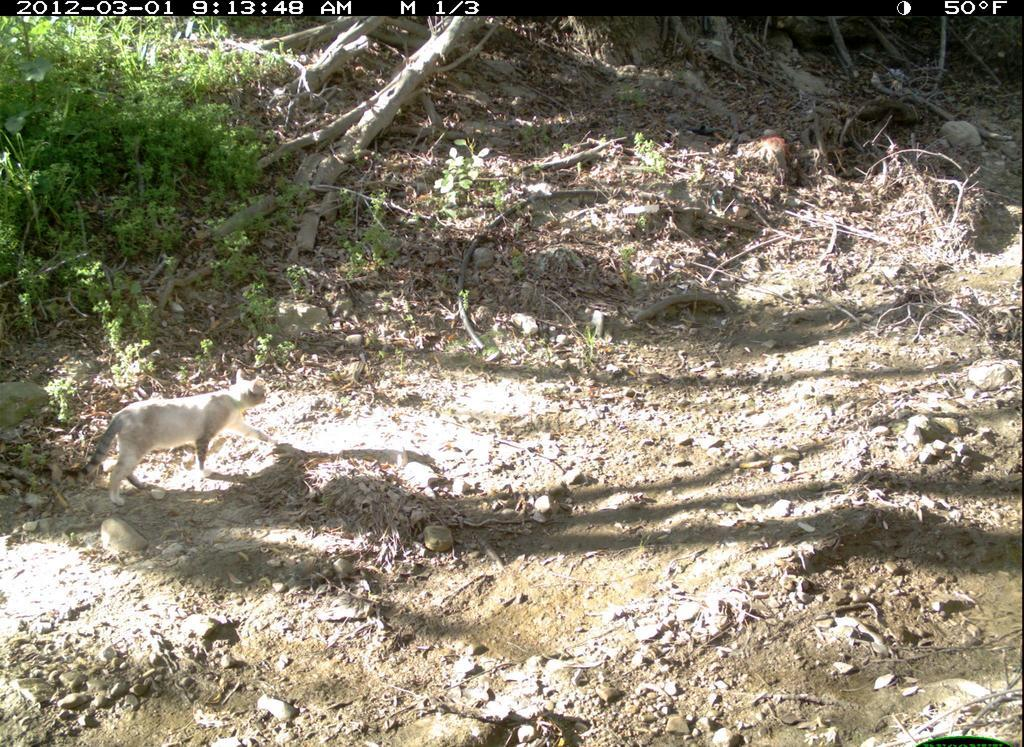cat: (84, 365, 273, 510)
